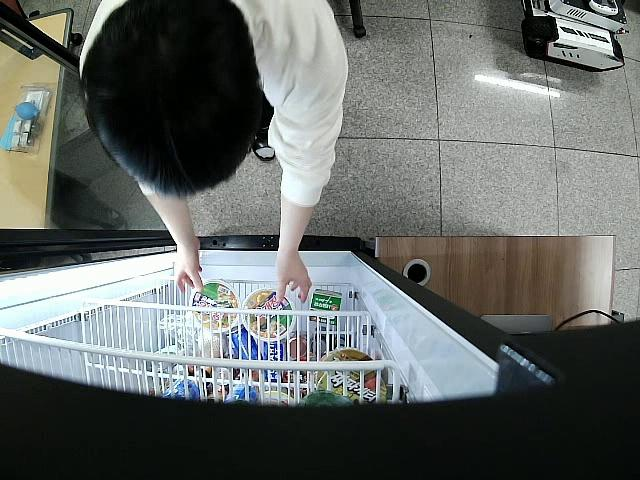00_hand: (273, 252, 313, 305), (175, 239, 204, 296)
09_yukGaeJang: (242, 289, 297, 341), (191, 281, 239, 333)
